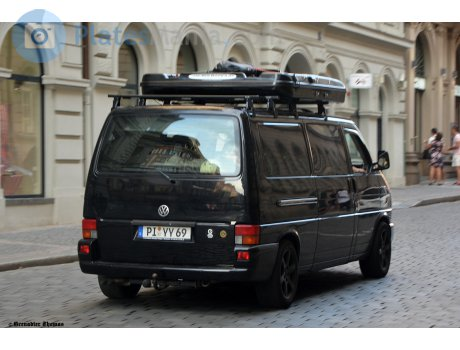License Plates: (137, 224, 190, 237)
